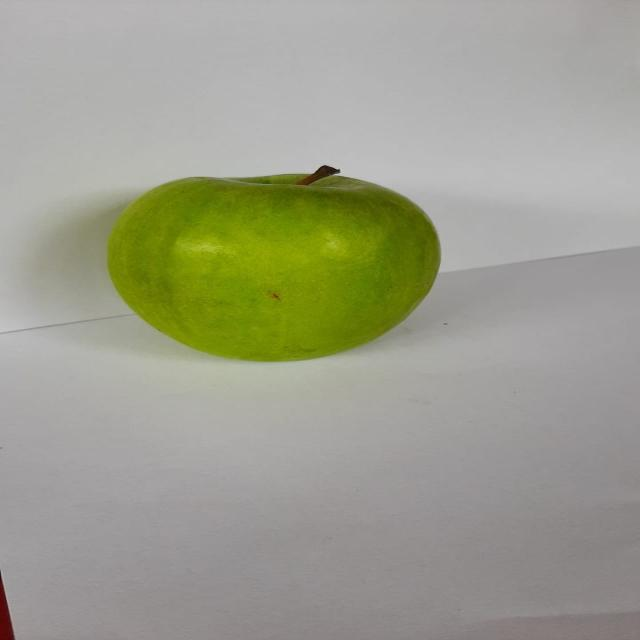50-_ripeness: (92, 161, 449, 372)
